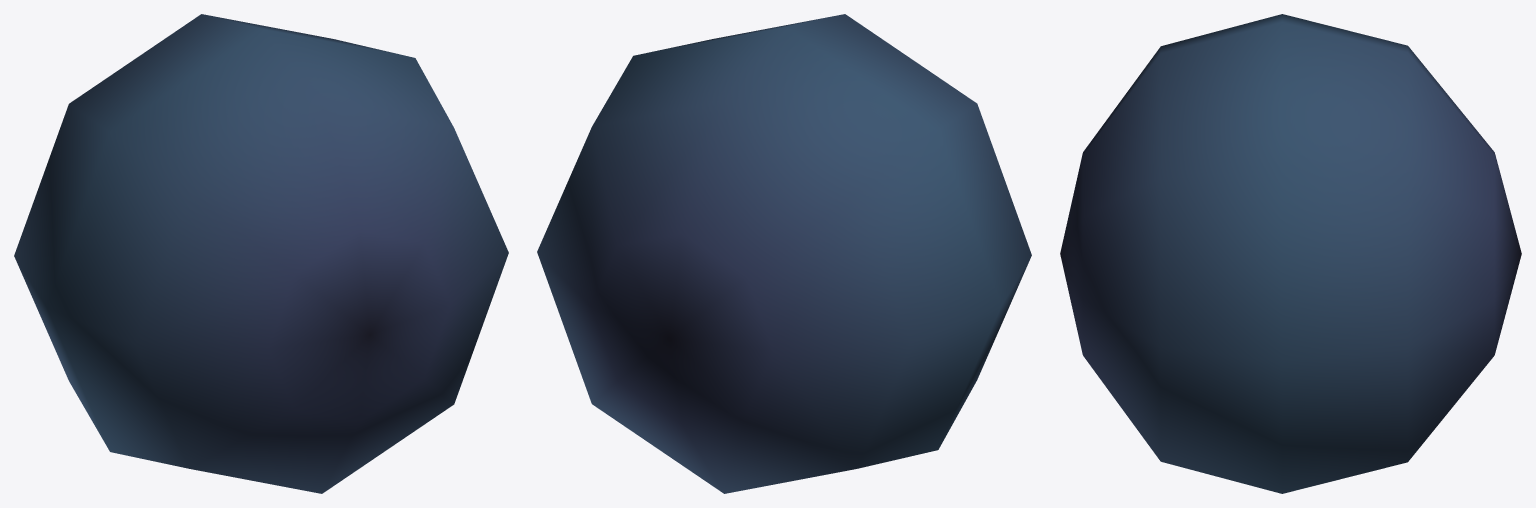
The model's file is consumables-fruits-blackberry_v1.glb.
3 views of the same model, side by side, from view 1: azimuth 30°, elevation 25°; view 2: azimuth 150°, elevation 25°; view 3: azimuth 270°, elevation 25° (orthographic). The views are drawn at different scales.
Visible parts, largest first — view 1: Blackberry.001; view 2: Blackberry.001; view 3: Blackberry.001.
Boxes of the visible parts, box(x1,y1,x2,y2) form: Blackberry.001: box(14, 14, 508, 493); Blackberry.001: box(537, 14, 1031, 493); Blackberry.001: box(1060, 14, 1521, 493).
Bounding box in the file's own units: 0.035 × 0.035 × 0.0316.
